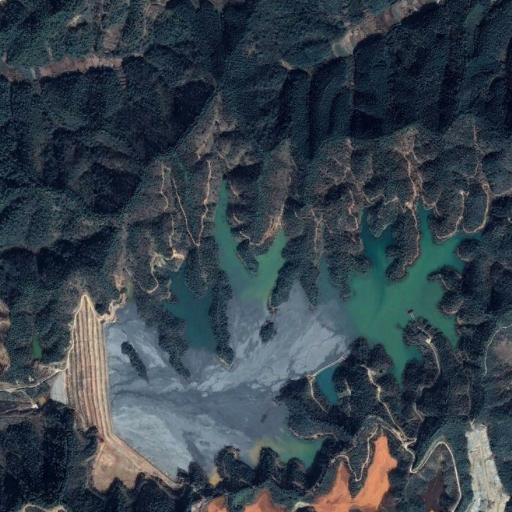tp: (44, 178, 487, 489)
